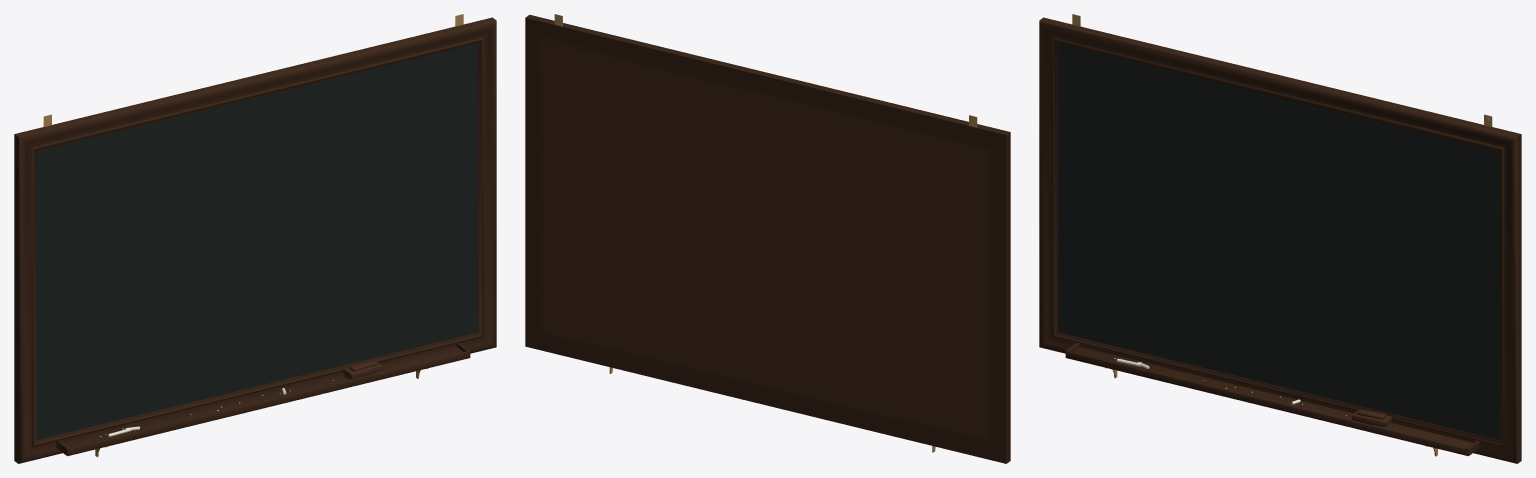
File: chalkboard.glb
3 renders of one model, left to right at view 1: azimuth 30°, elevation 25°; view 2: azimuth 150°, elevation 25°; view 3: azimuth 330°, elevation 25°, orthographic.
Parts seen in each view (by area): view 1: chalk_slate, chalk_frame, chalk_items; view 2: chalk_frame; view 3: chalk_slate, chalk_frame, chalk_items.
Boxes of the visible parts, x1,y1,x2,y2 form: chalk_slate: (36, 43, 477, 439); chalk_frame: (14, 14, 496, 463); chalk_items: (100, 360, 382, 437); chalk_frame: (525, 14, 1010, 463); chalk_slate: (1058, 43, 1499, 439); chalk_frame: (1039, 14, 1521, 463); chalk_items: (1114, 358, 1391, 428).
Size of the model in its own units: 1.73 by 1.2 by 0.098.
